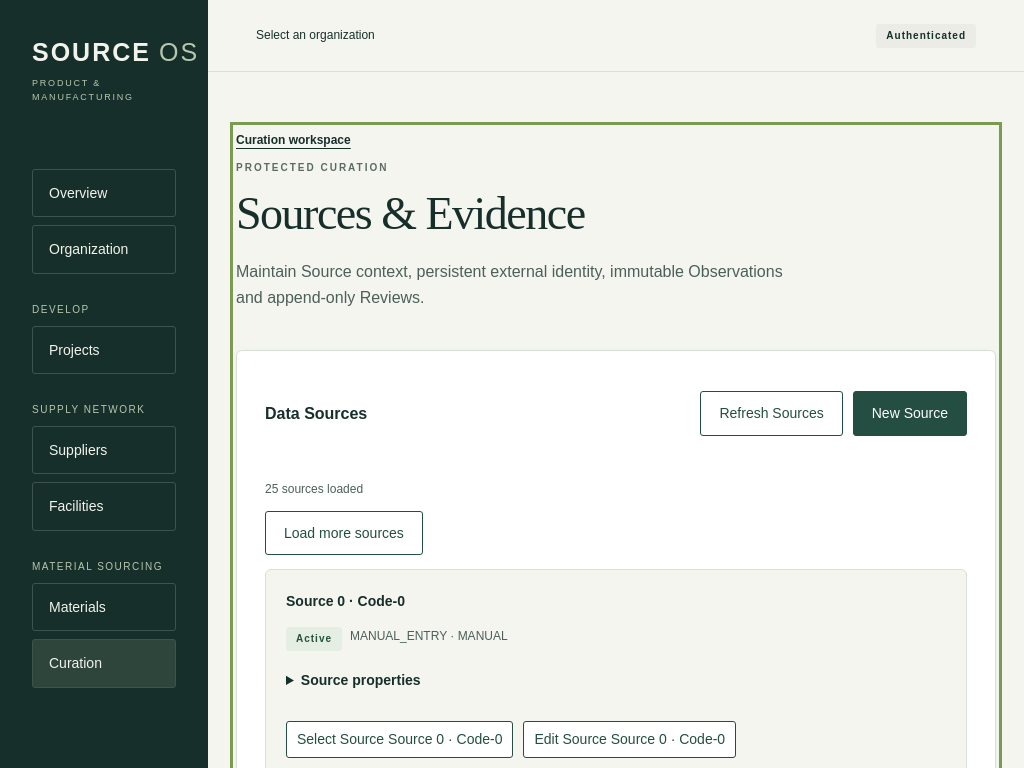
Test: Source pagination uses bounded offset pages, no total and no per-row history fanout
The width and height of the screenshot is (1024, 768).
Check: the text "25 sources loaded" is shown, box [265,482,363,496]
Step 1. Click the button "Load more sources" → coordinates (344, 533), box [265,511,423,555]
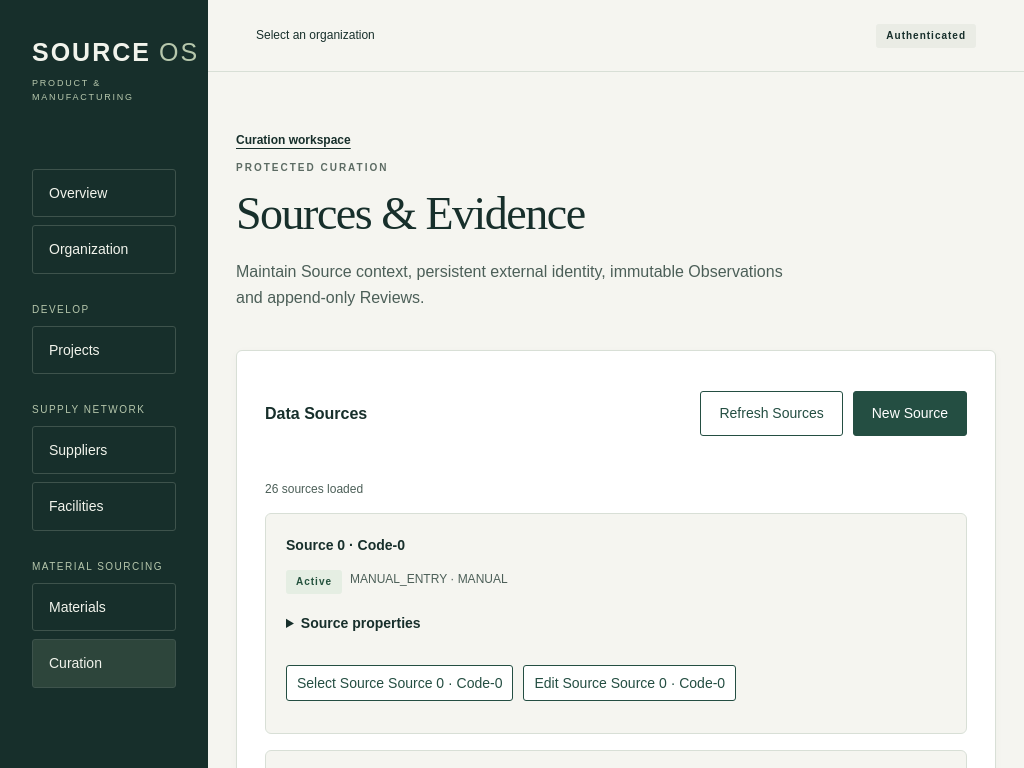
Check: the text "26 sources loaded" is shown, box [265,482,363,496]
Check: the button "Load more sources" is gone
